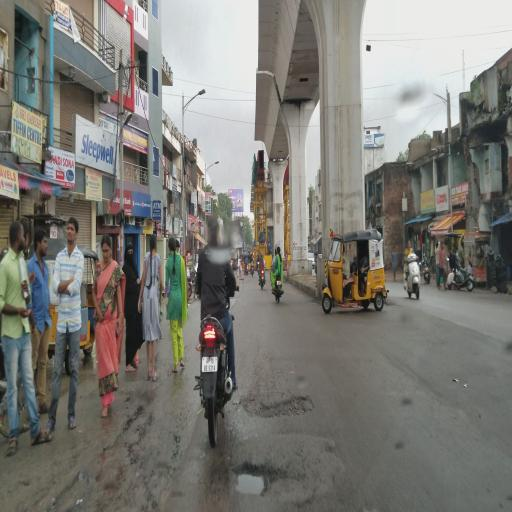street_light_0: (182, 84, 209, 106), (205, 154, 221, 172)
